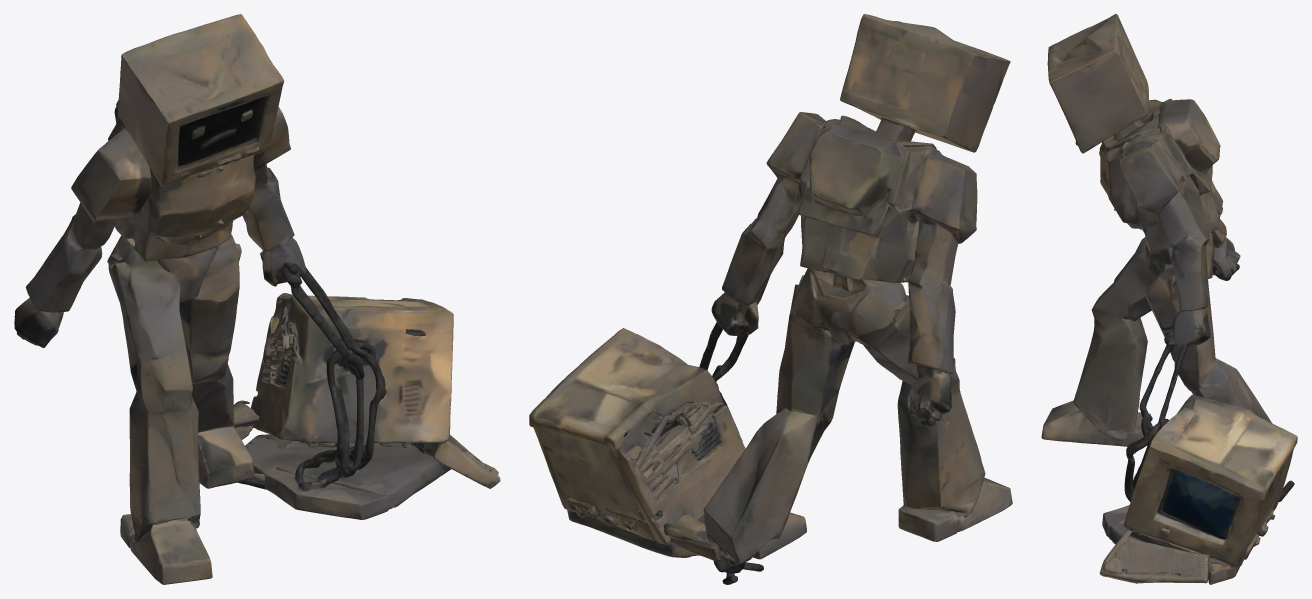
Rendered from statue.glb.
3 renders of one model, left to right at view 1: azimuth 30°, elevation 25°; view 2: azimuth 150°, elevation 25°; view 3: azimuth 270°, elevation 25°, orthographic. The views are drawn at different scales.
Visible parts, largest first — view 1: statue; view 2: statue; view 3: statue.
Boxes of the visible parts, x1,y1,x2,y2 form: statue: [14, 14, 500, 584]; statue: [529, 14, 1012, 584]; statue: [1041, 14, 1297, 584].
Bounding box in the file's own units: 2.38 × 2.9 × 1.55.
Materials: 1 (1 with a texture image).
